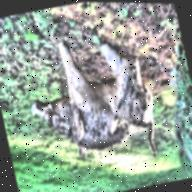boar: (17, 23, 165, 183)
